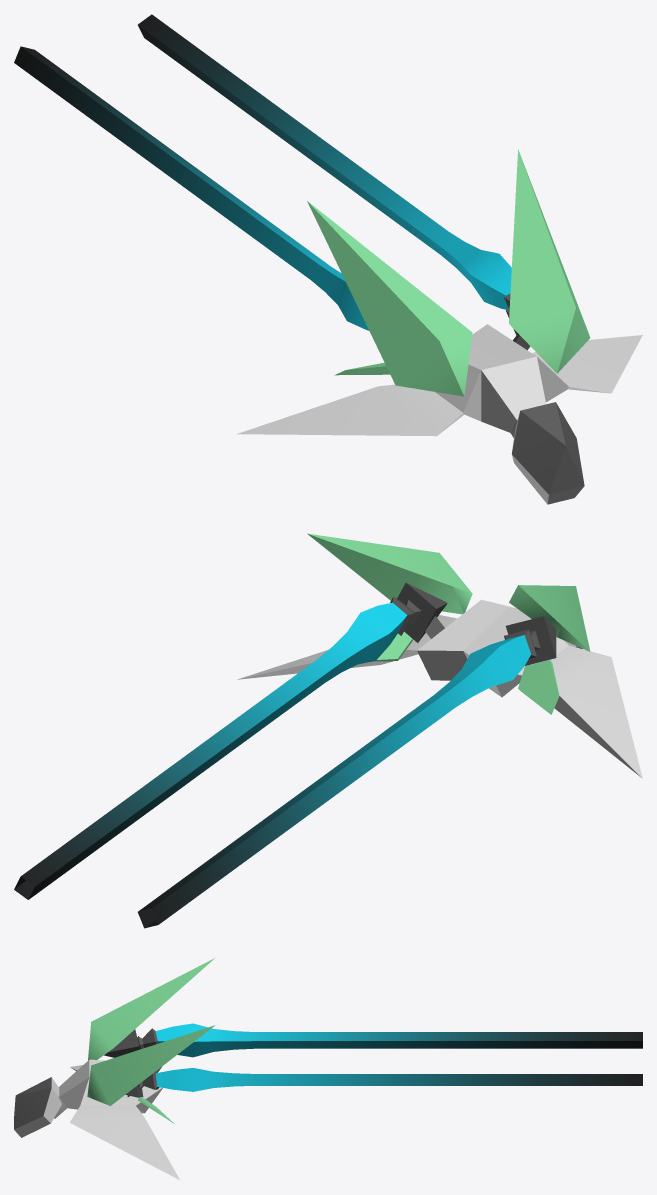
File: HeroShip.fbx
3 renders of one model, top to bottom at view 1: azimuth 30°, elevation 25°; view 2: azimuth 150°, elevation 25°; view 3: azimuth 270°, elevation 25°, orthographic. The views are drawn at different scales.
Parts seen in each view (by area): view 1: Body, Engine_Trails, Right_Engine, Left_Engine; view 2: Engine_Trails, Body, Left_Engine, Right_Engine; view 3: Engine_Trails, Body, Left_Engine, Right_Engine.
Part boxes in pixels (x1,y1,x2,y2): Body: [236, 324, 642, 504]; Engine_Trails: [14, 14, 511, 330]; Right_Engine: [307, 201, 472, 396]; Left_Engine: [504, 149, 590, 373]; Engine_Trails: [14, 602, 531, 928]; Body: [237, 599, 642, 778]; Left_Engine: [307, 533, 472, 661]; Right_Engine: [504, 585, 590, 714]; Engine_Trails: [155, 1023, 642, 1091]; Body: [14, 1059, 179, 1179]; Left_Engine: [87, 1025, 215, 1123]; Right_Engine: [88, 958, 214, 1060].
Bounding box in the file's own units: 22.17 × 11.35 × 45.36.
